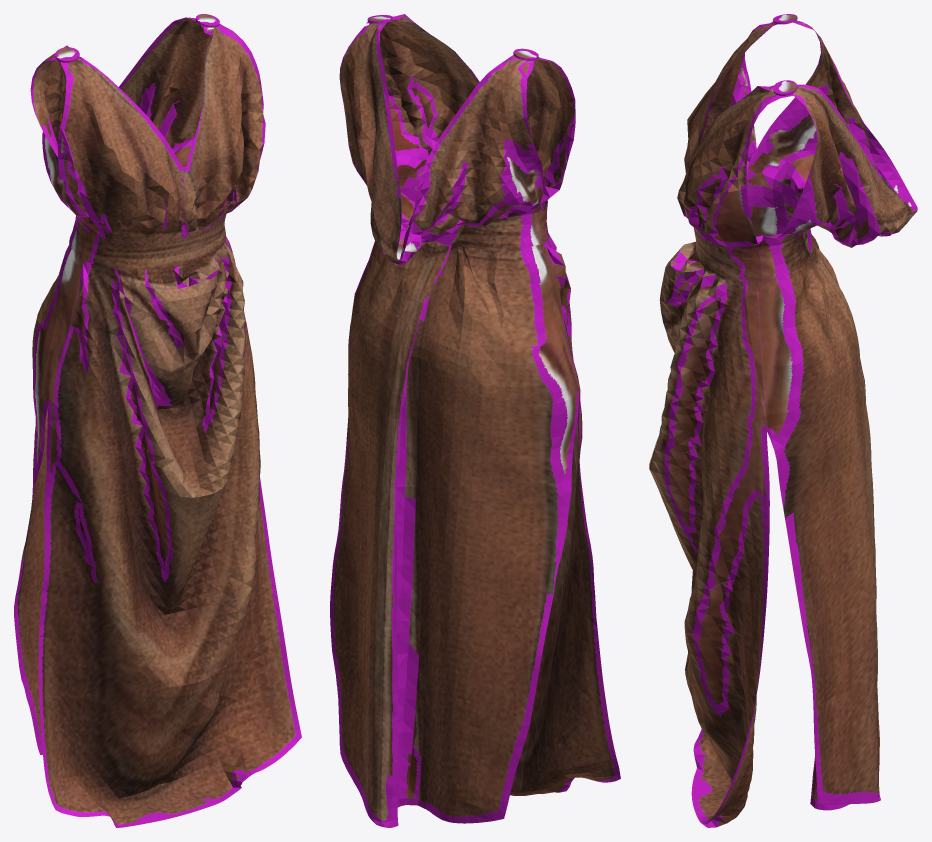
3 views of the same model, side by side, from view 1: azimuth 30°, elevation 25°; view 2: azimuth 150°, elevation 25°; view 3: azimuth 270°, elevation 25° (orthographic). The views are drawn at different scales.
Bounding box in the file's own units: 0.3857 × 1.09 × 0.3531.
Materials: 1 (1 with a texture image).
